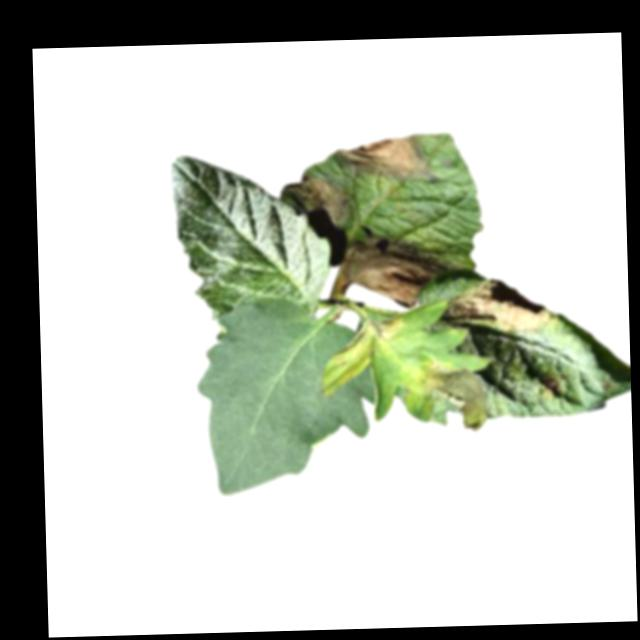Late_blight: (337, 234, 451, 310), (437, 271, 554, 334), (407, 356, 488, 432), (334, 134, 439, 185), (334, 314, 406, 379), (290, 174, 354, 226), (538, 376, 561, 398)
